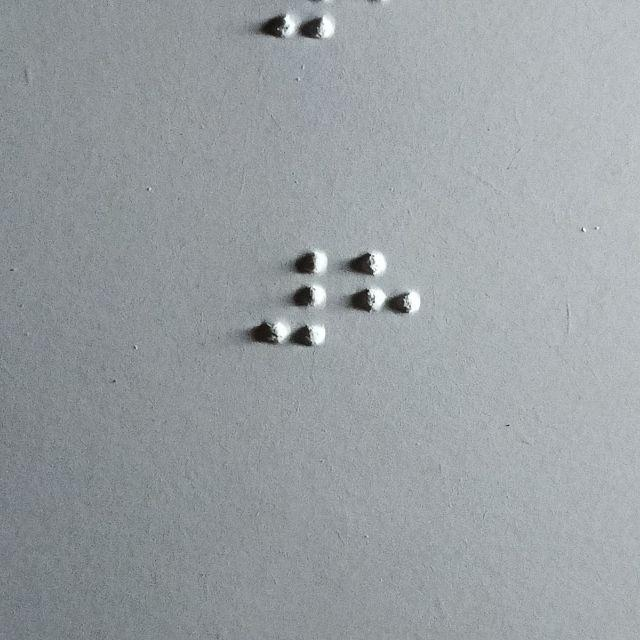8: (351, 252, 424, 354)
number: (252, 247, 328, 349)
